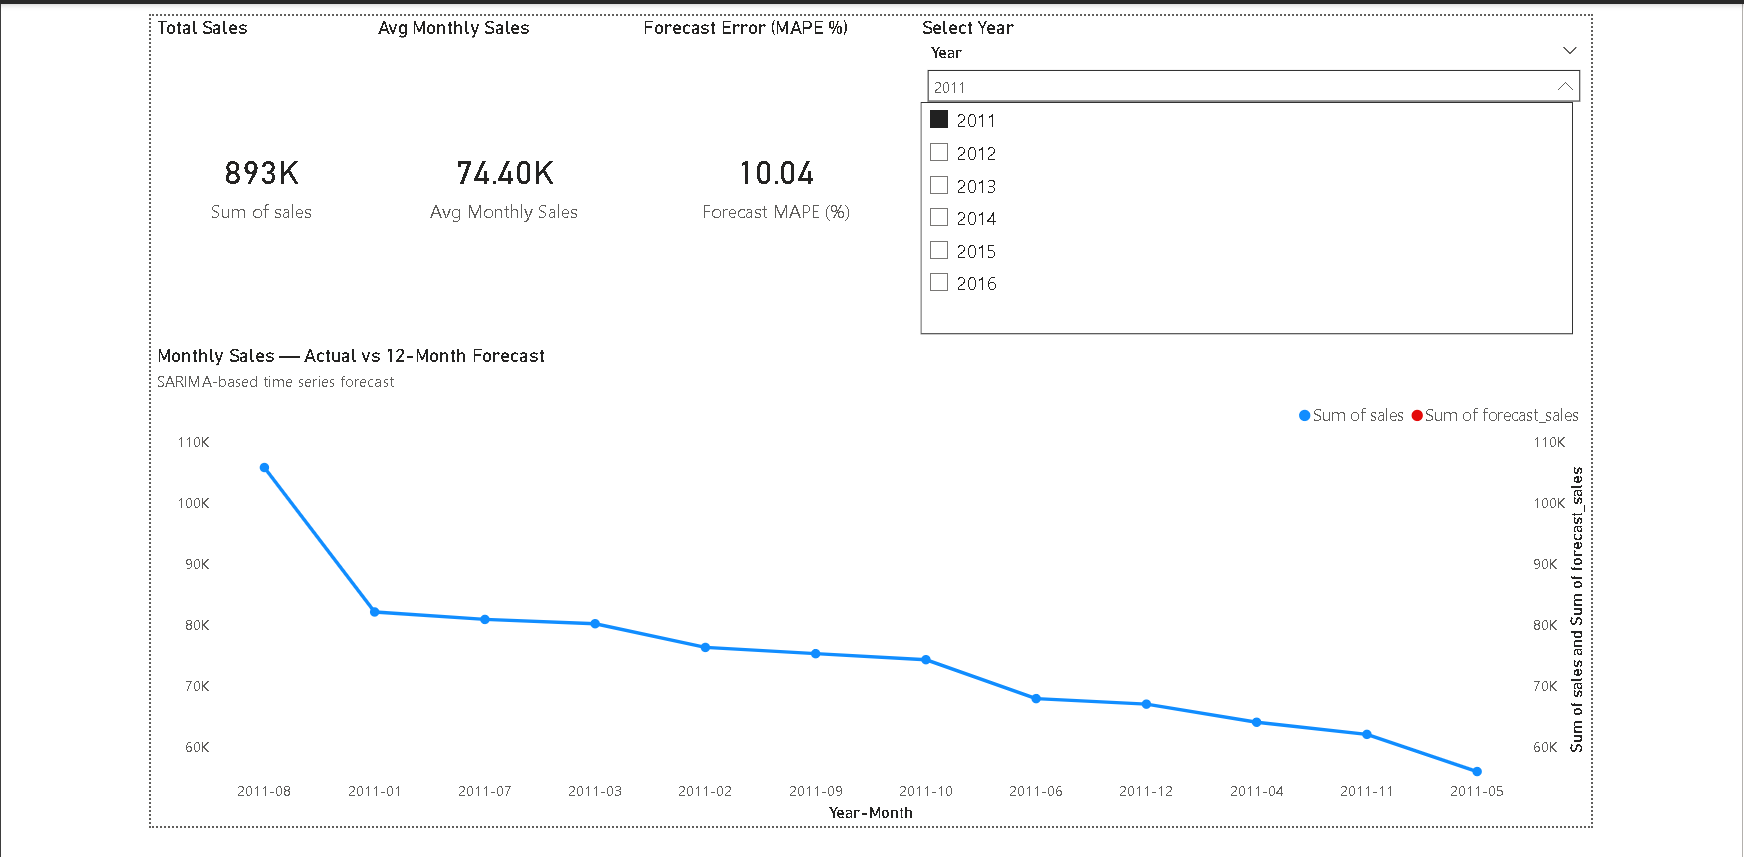

Layout of this report page (visuals, bound fields, positions):
{"tool":"powerbi","page":{"name":"Page 1","canvas":[1280,720],"ordinal":0},"visuals":[{"type":"lineChart","title":"Monthly Sales — Actual vs 12-Month Forecast","fields":{"Category":["Calendar.Year-Month"],"Y":["Sum(superstore_sales_cleaned.sales)"],"Y2":["Sum(sales_forecast_12_months.forecast_sales)"]},"box":[0,291.4,1280,430],"z":0},{"type":"card","title":"Total Sales","fields":{"Values":["Sum(superstore_sales_cleaned.sales)"]},"box":[0,0,196.2,277.5],"z":1000},{"type":"card","title":"Avg Monthly Sales","fields":{"Values":["superstore_sales_cleaned.Avg Monthly Sales"]},"box":[196.2,0,235,278.8],"z":2000},{"type":"card","title":"Forecast Error (MAPE %)","fields":{"Values":["superstore_sales_cleaned.Forecast MAPE (%)"]},"box":[432.2,0,247.8,277.8],"z":3000},{"type":"slicer","title":"Select Year","fields":{"Values":["Calendar.Year"]},"box":[680,0,600,277.5],"z":4000}]}

Visuals, with their boxes on the page's 1280x720 design canvas (x1, y1, x2, y2). These are canvas units, not pixel positions in the 1744x857 screenshot, which may show the page scaled, cropped or inside an application window:
"Monthly Sales — Actual vs 12-Month Forecast" lineChart: 0, 291, 1280, 721
"Total Sales" card: 0, 0, 196, 278
"Avg Monthly Sales" card: 196, 0, 431, 279
"Forecast Error (MAPE %)" card: 432, 0, 680, 278
"Select Year" slicer: 680, 0, 1280, 278
